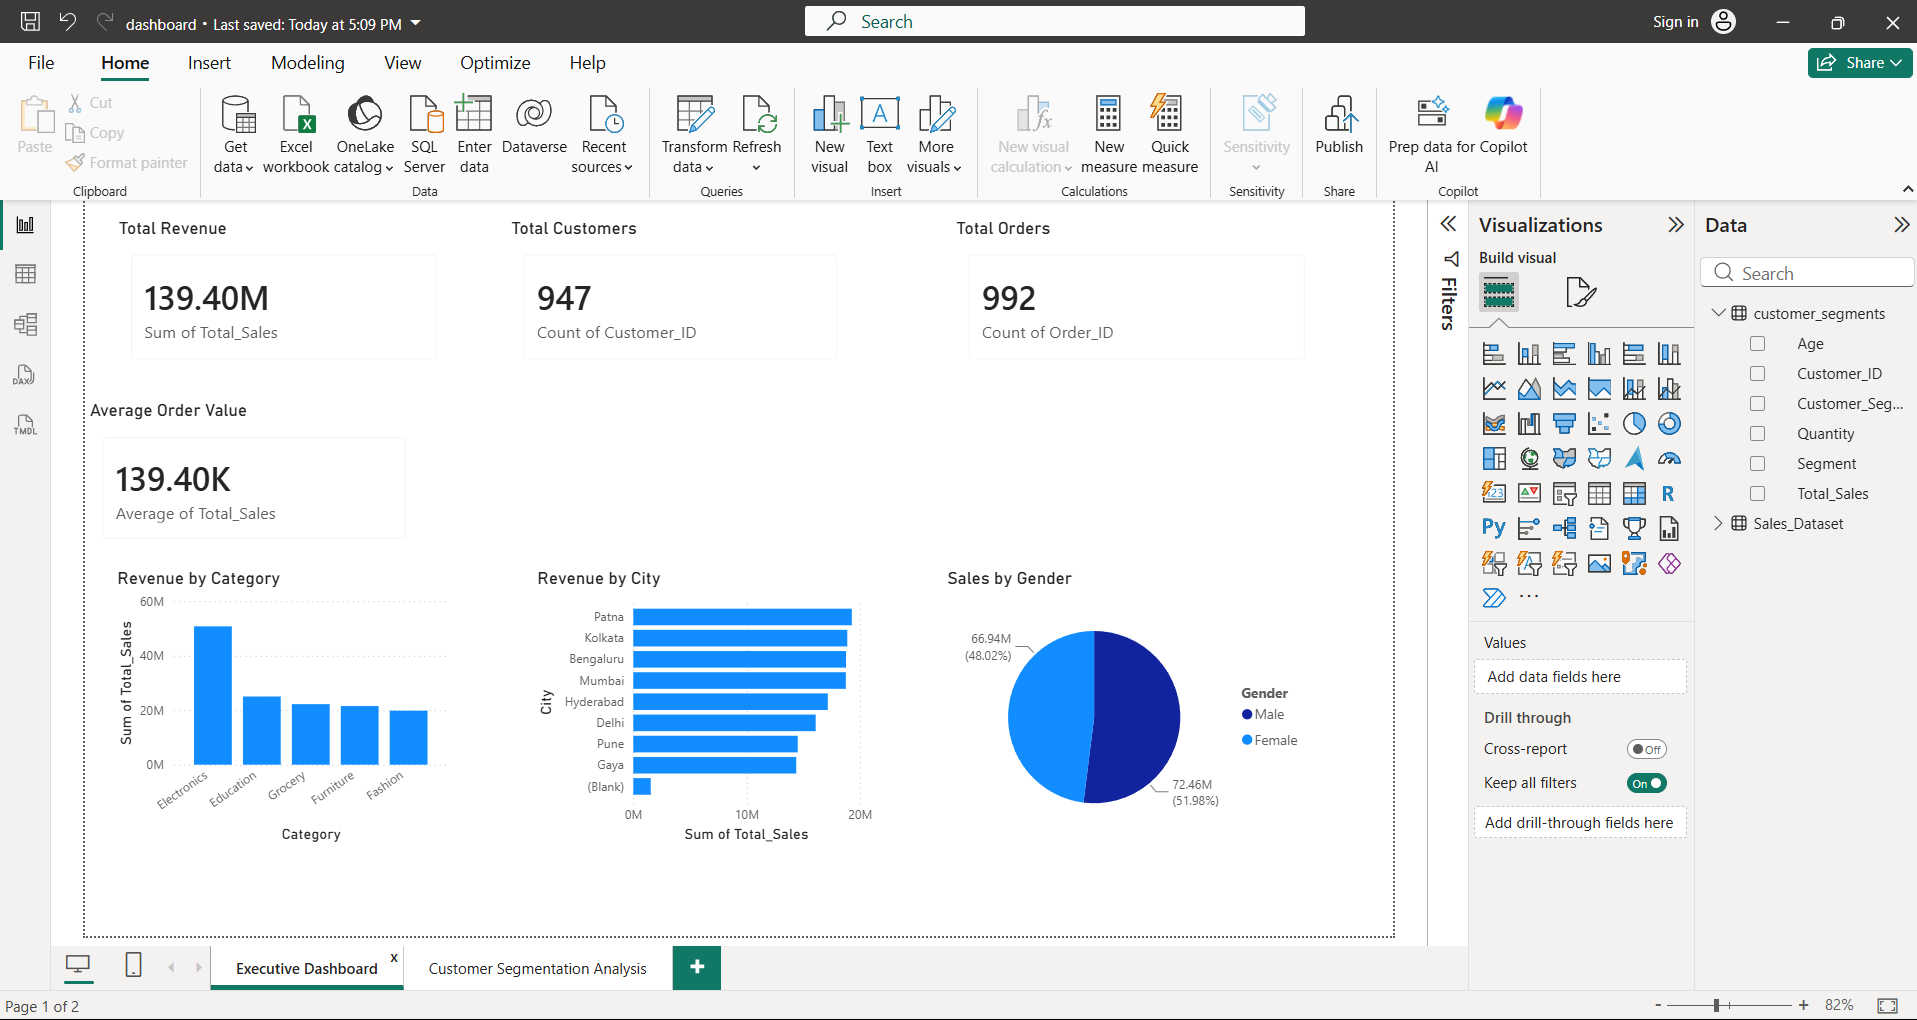

What the dashboard file says about the page in this screenshot:
{"tool":"powerbi","page":{"name":"Executive Dashboard","canvas":[1280,720],"ordinal":0},"visuals":[{"type":"clusteredColumnChart","title":"Revenue by Category","fields":{"Category":["Sales_Dataset.Category"],"Y":["Sum(Sales_Dataset.Total_Sales)"]},"box":[26.9,359.5,333.8,273.9],"z":3000},{"type":"clusteredBarChart","title":"Revenue by City","fields":{"Category":["Sales_Dataset.City"],"Y":["Sum(Sales_Dataset.Total_Sales)"]},"box":[437.8,359.5,337.5,273.9],"z":4000},{"type":"pieChart","title":"Sales by Gender","fields":{"Category":["Sales_Dataset.Gender"],"Y":["Sum(Sales_Dataset.Total_Sales)"]},"box":[838.9,359.5,363.2,273.9],"z":5000},{"type":"cardVisual","title":"Total Customers","fields":{"Data":["Count(Sales_Dataset.Customer_ID)"]},"box":[412.1,17.1,341.2,156.5],"z":6000},{"type":"cardVisual","title":"Total Revenue","fields":{"Data":["Sum(Sales_Dataset.Total_Sales)"]},"box":[28.1,17.1,333.8,156.5],"z":6001},{"type":"cardVisual","title":"Average Order Value","fields":{"Data":["Avg(Sales_Dataset.Total_Sales)"]},"box":[0,195.7,331.4,154.1],"z":6002},{"type":"cardVisual","title":"Total Orders","fields":{"Data":["Count(Sales_Dataset.Order_ID)"]},"box":[847.4,17.1,363.2,156.5],"z":6003}]}

Visuals, with their boxes on the page's 1280x720 design canvas (x1, y1, x2, y2). These are canvas units, not pixel positions in the 1917x1020 screenshot, which may show the page scaled, cropped or inside an application window:
"Revenue by Category" clusteredColumnChart: crop(27, 360, 361, 633)
"Revenue by City" clusteredBarChart: crop(438, 360, 775, 633)
"Sales by Gender" pieChart: crop(839, 360, 1202, 633)
"Total Customers" cardVisual: crop(412, 17, 753, 174)
"Total Revenue" cardVisual: crop(28, 17, 362, 174)
"Average Order Value" cardVisual: crop(0, 196, 331, 350)
"Total Orders" cardVisual: crop(847, 17, 1211, 174)
